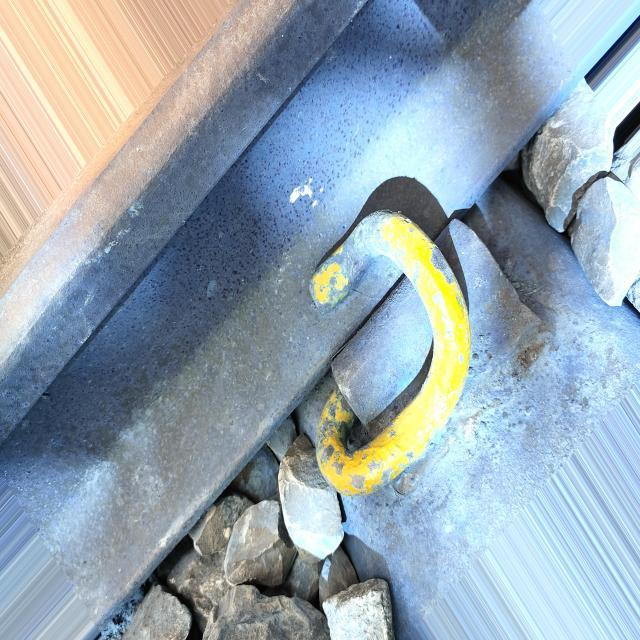Good Fasteners: (298, 185, 579, 557)
